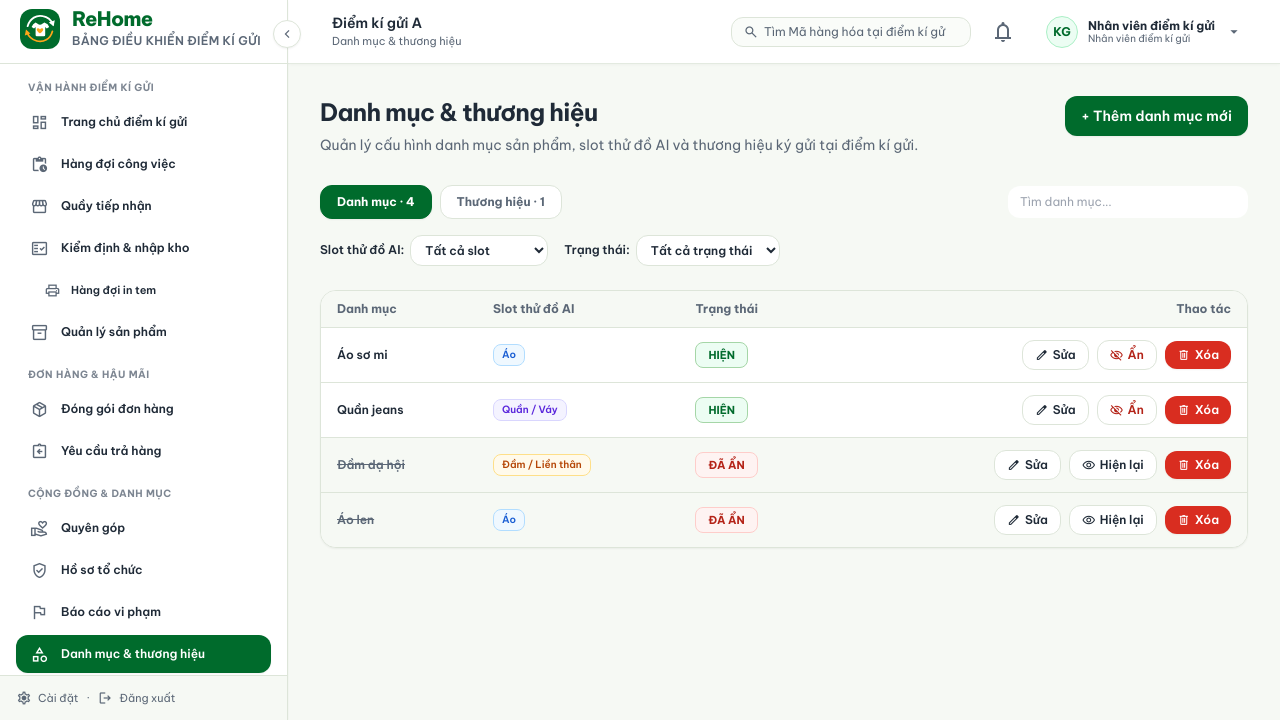
Test: CategoryBrandPage - Multi-dimensional Filter (DM-01) › filters categories simultaneously by Keyword, Slot, and Status
Expected: the text "Áo sơ mi" is shown, [337,347,388,362]
In the field with placeholder "Tìm danh mục...": coordinates (1128, 202) [1008,186,1248,218], type "Áo"
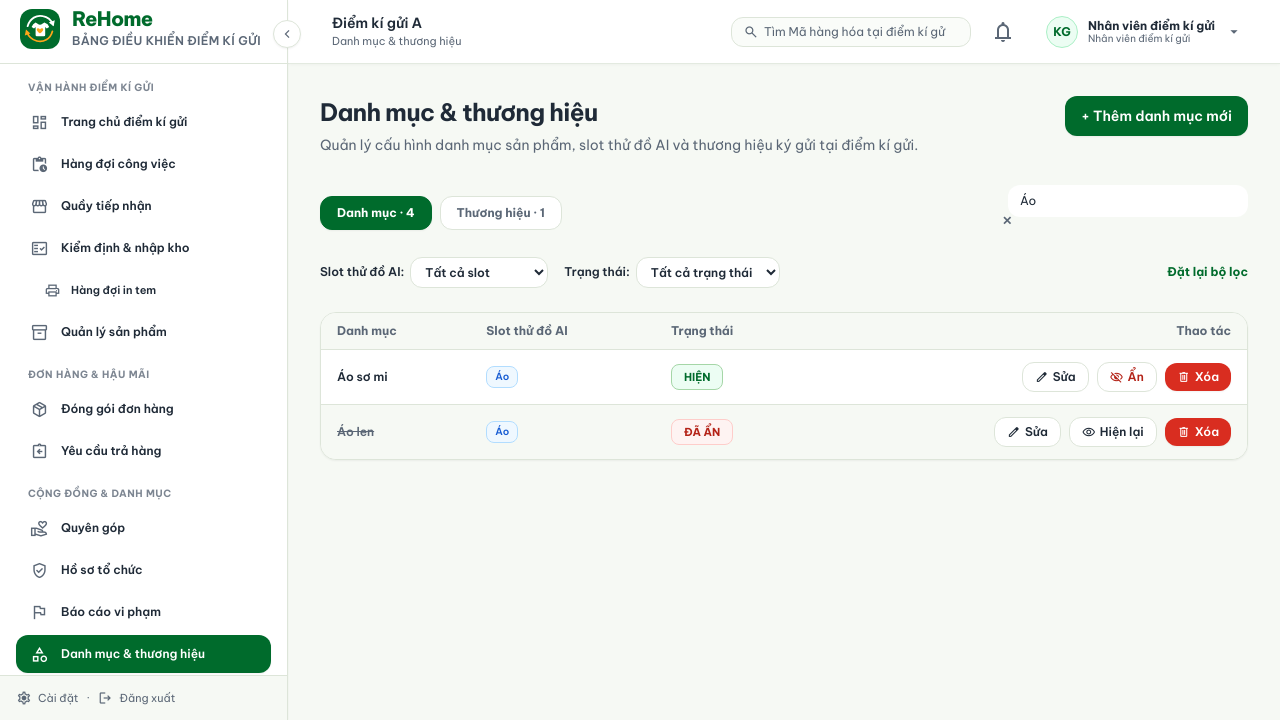
Select "Áo" in the dropdown labelled "Slot thử đồ AI:": coordinates (479, 272) [410,257,548,288]
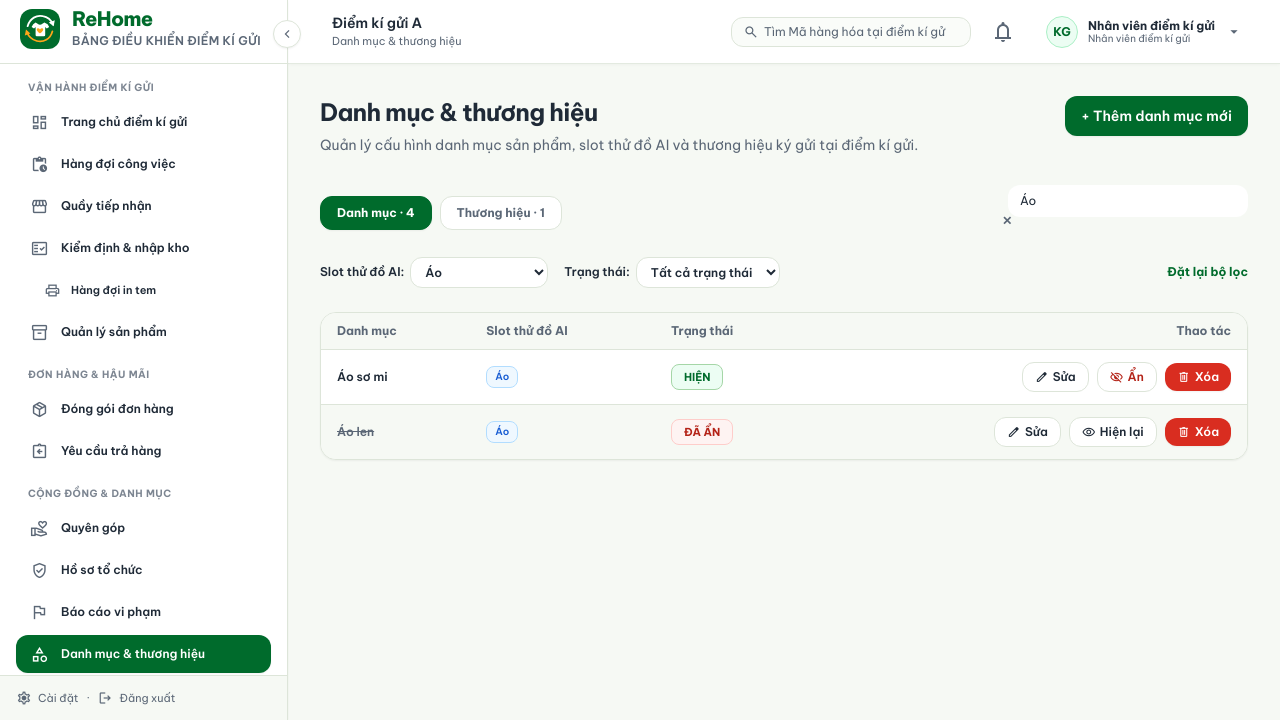
Select "Đã ẩn" in the dropdown named "Lọc trạng thái": coordinates (708, 272) [636,257,780,288]
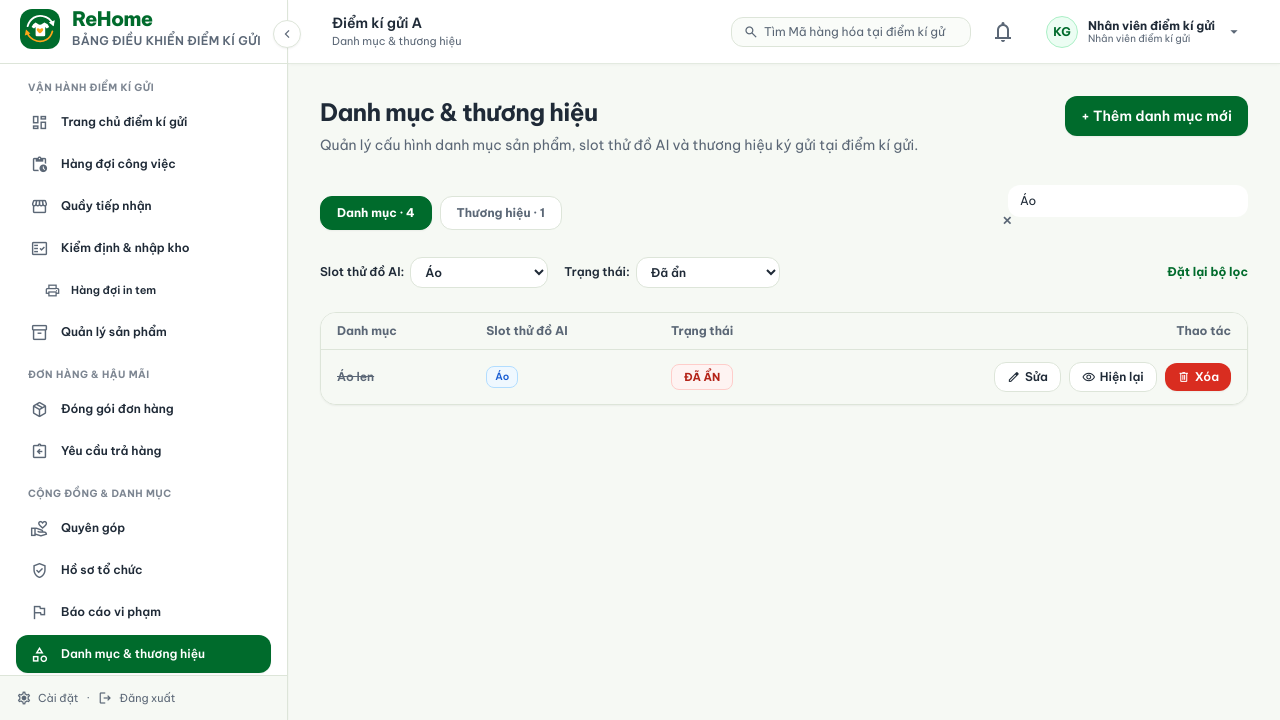
Expected: the text "Áo len" is shown, [337,369,374,384]
Now the text "Áo sơ mi" is gone
